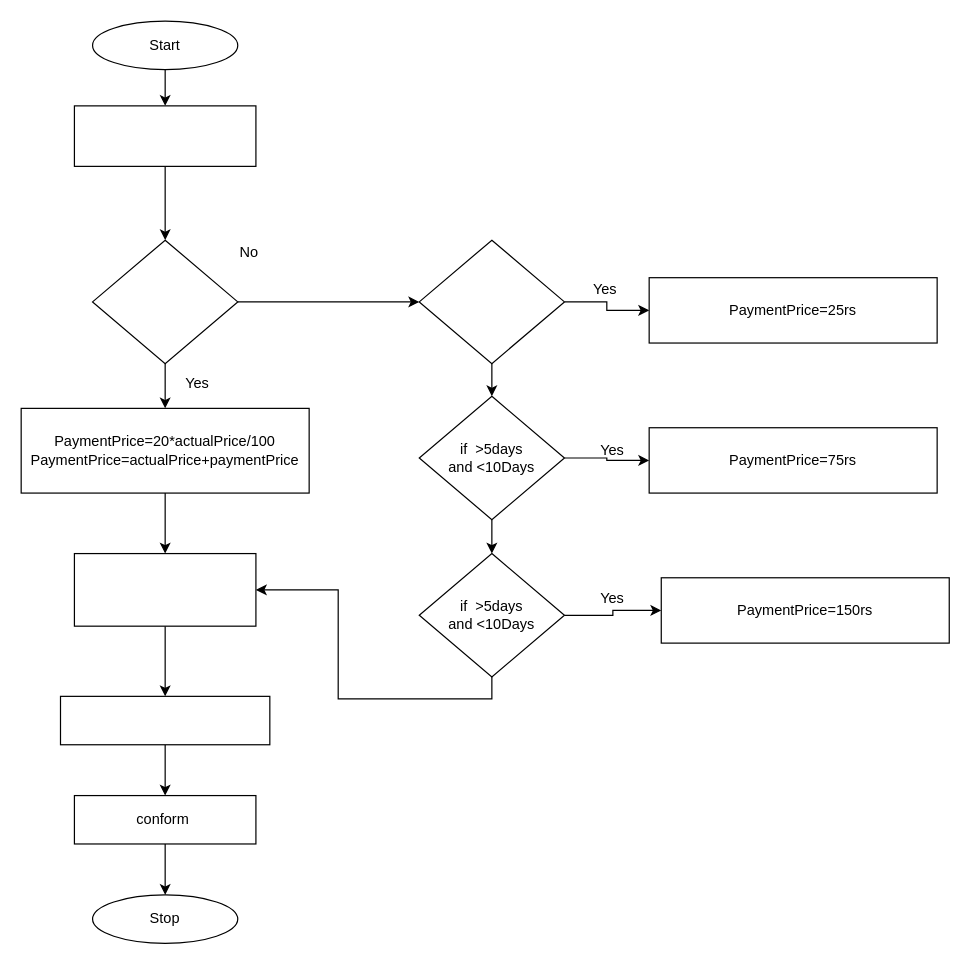
This 970x966 diagram has some shape labels left out. Each missing label, with the centre of its shape:
if >2days and <5days: the point at 491,301
If BookIsLost: the point at 164,301
MakePayment: the point at 164,720
PayDues: the point at 164,135
Select payment methods: the point at 164,589
